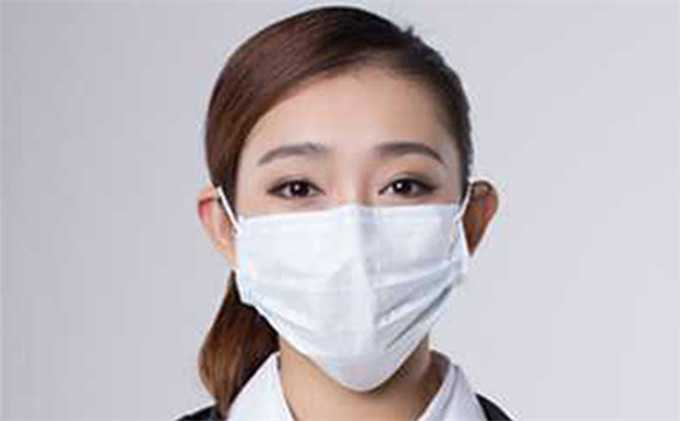face_mask: (235, 82, 469, 395)
